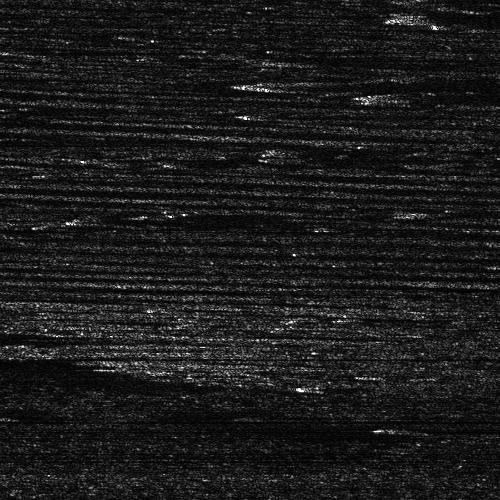rock: (200, 146, 345, 167), (210, 74, 315, 95), (124, 153, 259, 164), (0, 327, 45, 348), (356, 90, 439, 101), (273, 217, 326, 234), (295, 373, 326, 396), (388, 12, 451, 23), (393, 209, 456, 214), (355, 425, 418, 430), (252, 146, 293, 153), (247, 414, 278, 417)
shadow: (263, 74, 500, 95), (311, 373, 478, 396), (273, 146, 433, 167), (0, 327, 136, 348), (0, 135, 173, 144), (300, 217, 381, 234), (398, 90, 500, 101), (420, 12, 500, 23), (192, 153, 270, 164), (387, 425, 500, 430), (273, 146, 353, 153), (425, 209, 500, 214), (263, 414, 344, 417)
